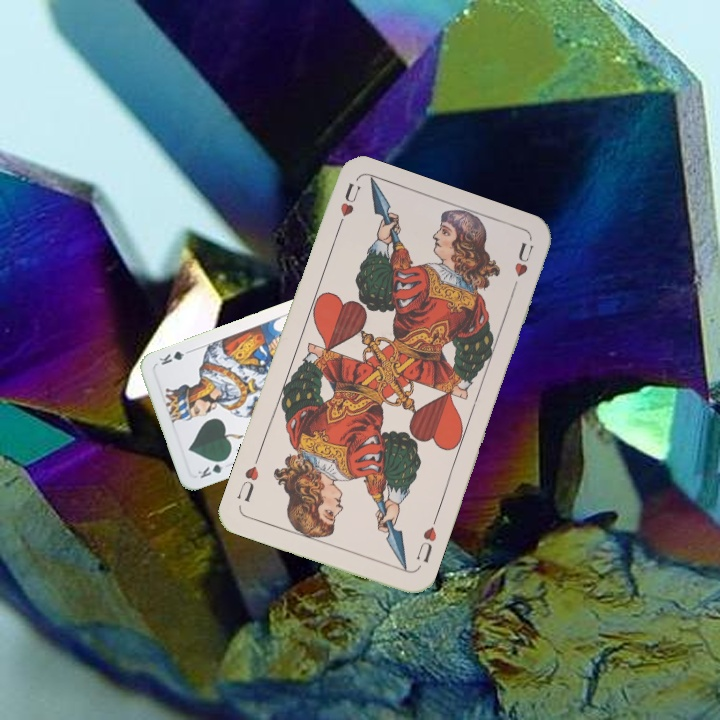GK: (194, 455, 230, 481)
HU: (332, 179, 363, 235), (412, 513, 440, 565)
